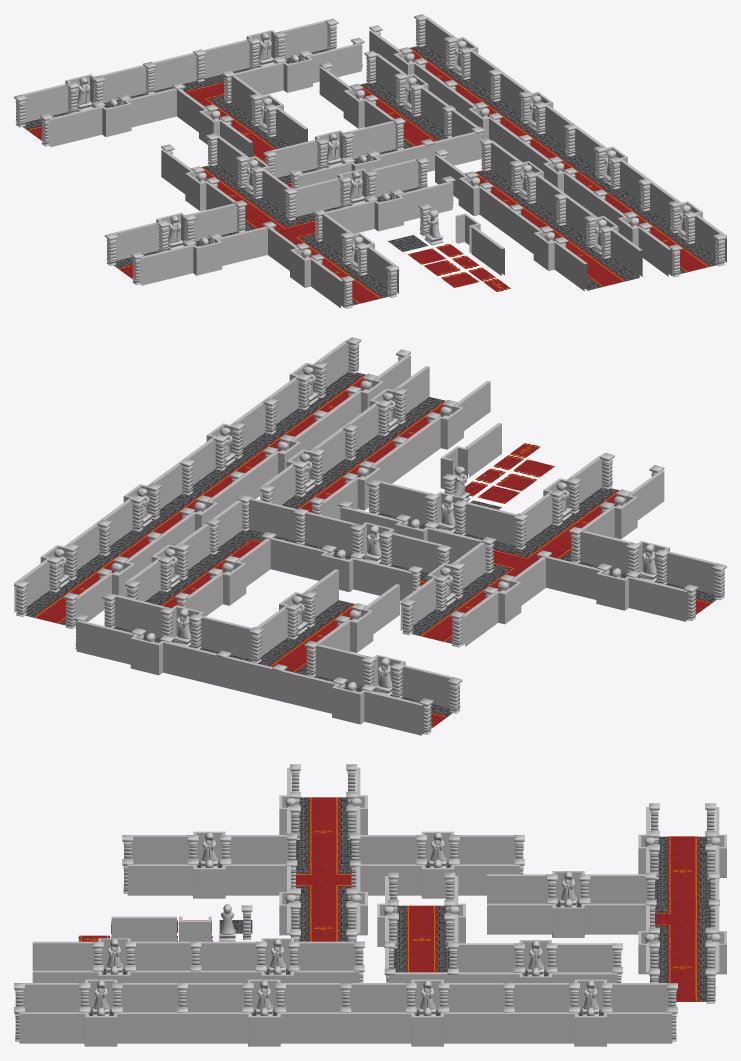
Rendered from DungedonAssets.fbx.
3 renders of one model, top to bottom at view 1: azimuth 30°, elevation 25°; view 2: azimuth 150°, elevation 25°; view 3: azimuth 270°, elevation 25°, orthographic. The views are drawn at different scales.
Visible parts, largest first — view 1: CrossCorridor, TCorridor, Corridor X4, CornerCorridor, Corridor X2, Ind.Asset.Rugs, Ind.Asset.Wall, Ind.Asset.SquareWall; view 2: CrossCorridor, TCorridor, Corridor X4, CornerCorridor, Corridor X2, Ind.Asset.Rugs, Ind.Asset.Wall, Ind.Asset.SquareWall; view 3: Corridor X4, CrossCorridor, TCorridor, Corridor X2, CornerCorridor, Ind.Asset.Wall, Ind.Asset.SquareWall, Ind.Asset.Statue.
Part boxes in pixels (x1,y1,x2,y2): CrossCorridor: [104, 133, 455, 308]; TCorridor: [14, 18, 364, 162]; Corridor X4: [369, 14, 726, 277]; CornerCorridor: [263, 51, 484, 188]; Corridor X2: [434, 138, 642, 291]; Ind.Asset.Rugs: [408, 244, 510, 291]; Ind.Asset.Wall: [471, 226, 504, 275]; Ind.Asset.SquareWall: [455, 213, 480, 253]; CrossCorridor: [338, 453, 726, 647]; TCorridor: [73, 569, 462, 735]; Corridor X4: [14, 337, 410, 628]; CornerCorridor: [125, 494, 451, 616]; Corridor X2: [260, 366, 490, 519]; Ind.Asset.Rugs: [465, 443, 554, 503]; Ind.Asset.Wall: [465, 423, 501, 477]; Ind.Asset.SquareWall: [440, 446, 467, 488]; Corridor X4: [14, 979, 677, 1046]; CrossCorridor: [122, 764, 524, 941]; TCorridor: [487, 803, 726, 1003]; Corridor X2: [32, 938, 364, 982]; CornerCorridor: [377, 872, 622, 982]; Ind.Asset.Wall: [111, 916, 176, 941]; Ind.Asset.SquareWall: [179, 916, 211, 941]; Ind.Asset.Statue: [219, 904, 235, 941].
Size of the model in its own units: 3651 by 227 by 4368.
